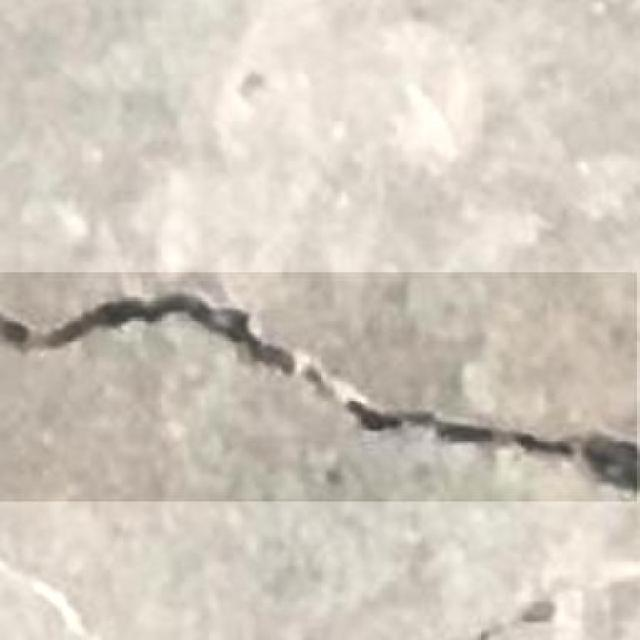Crack: (0, 264, 640, 496)
